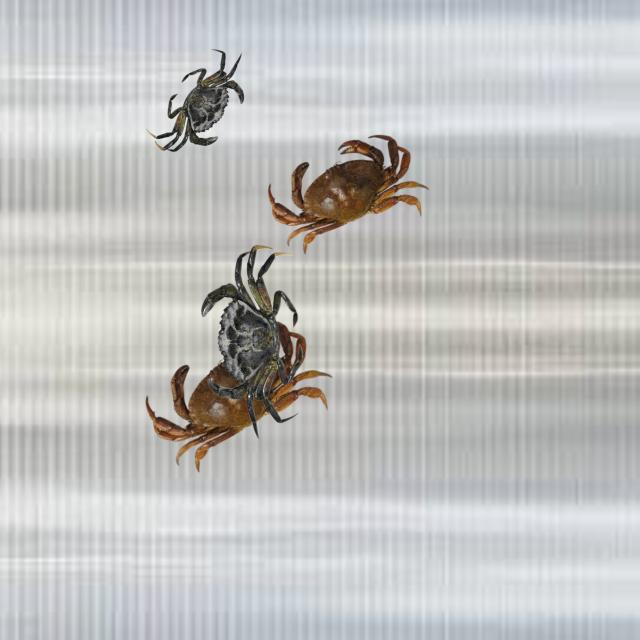European_Green_Crab: (197, 242, 309, 443), (141, 32, 266, 173)
